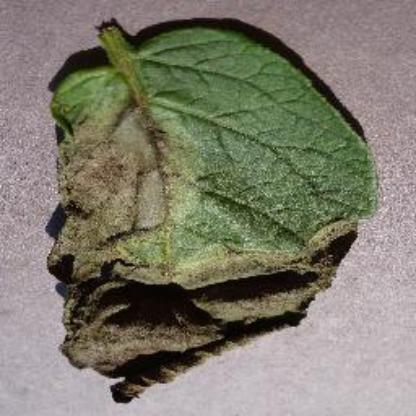Late-Blight: (41, 14, 390, 406)
